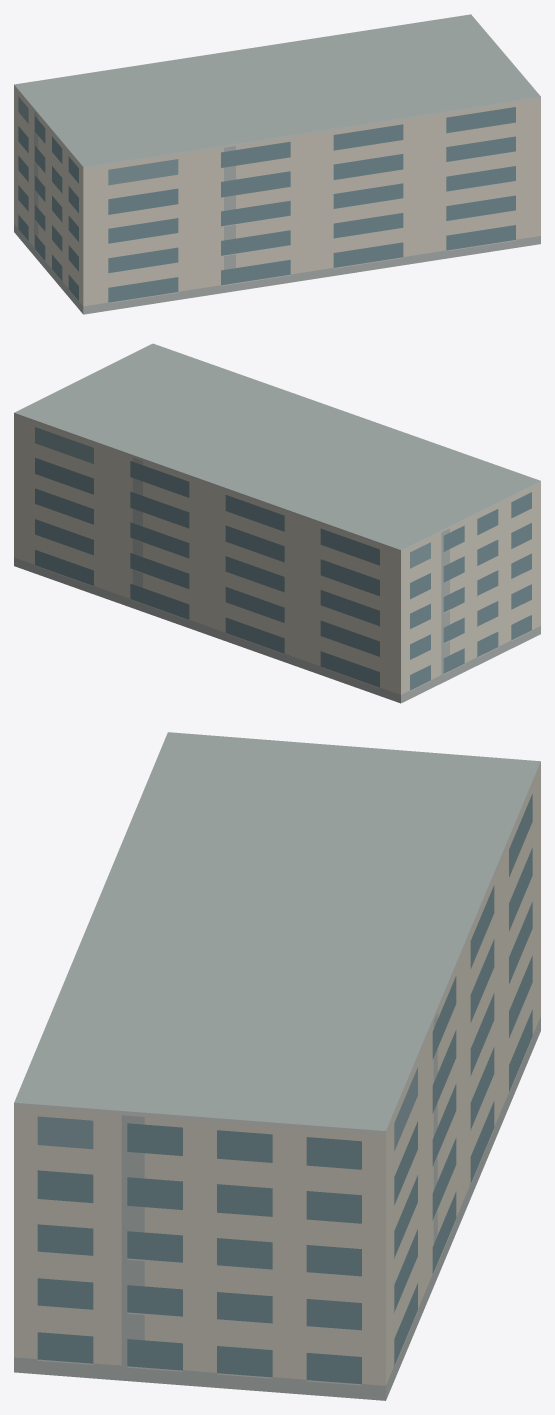
The model's file is survey-upis-32697108.glb.
3 renders of one model, top to bottom at view 1: azimuth 30°, elevation 25°; view 2: azimuth 150°, elevation 25°; view 3: azimuth 270°, elevation 25°, orthographic. The views are drawn at different scales.
Visible parts, largest first — view 1: survey-upis-32697108.tmp; view 2: survey-upis-32697108.tmp; view 3: survey-upis-32697108.tmp.
Part boxes in pixels (left/top/right/bottom): survey-upis-32697108.tmp: left=14, top=14, right=540, bottom=314; survey-upis-32697108.tmp: left=14, top=343, right=540, bottom=703; survey-upis-32697108.tmp: left=14, top=732, right=540, bottom=1400.
Bounding box in the file's own units: 48.4 × 15.25 × 27.01.
